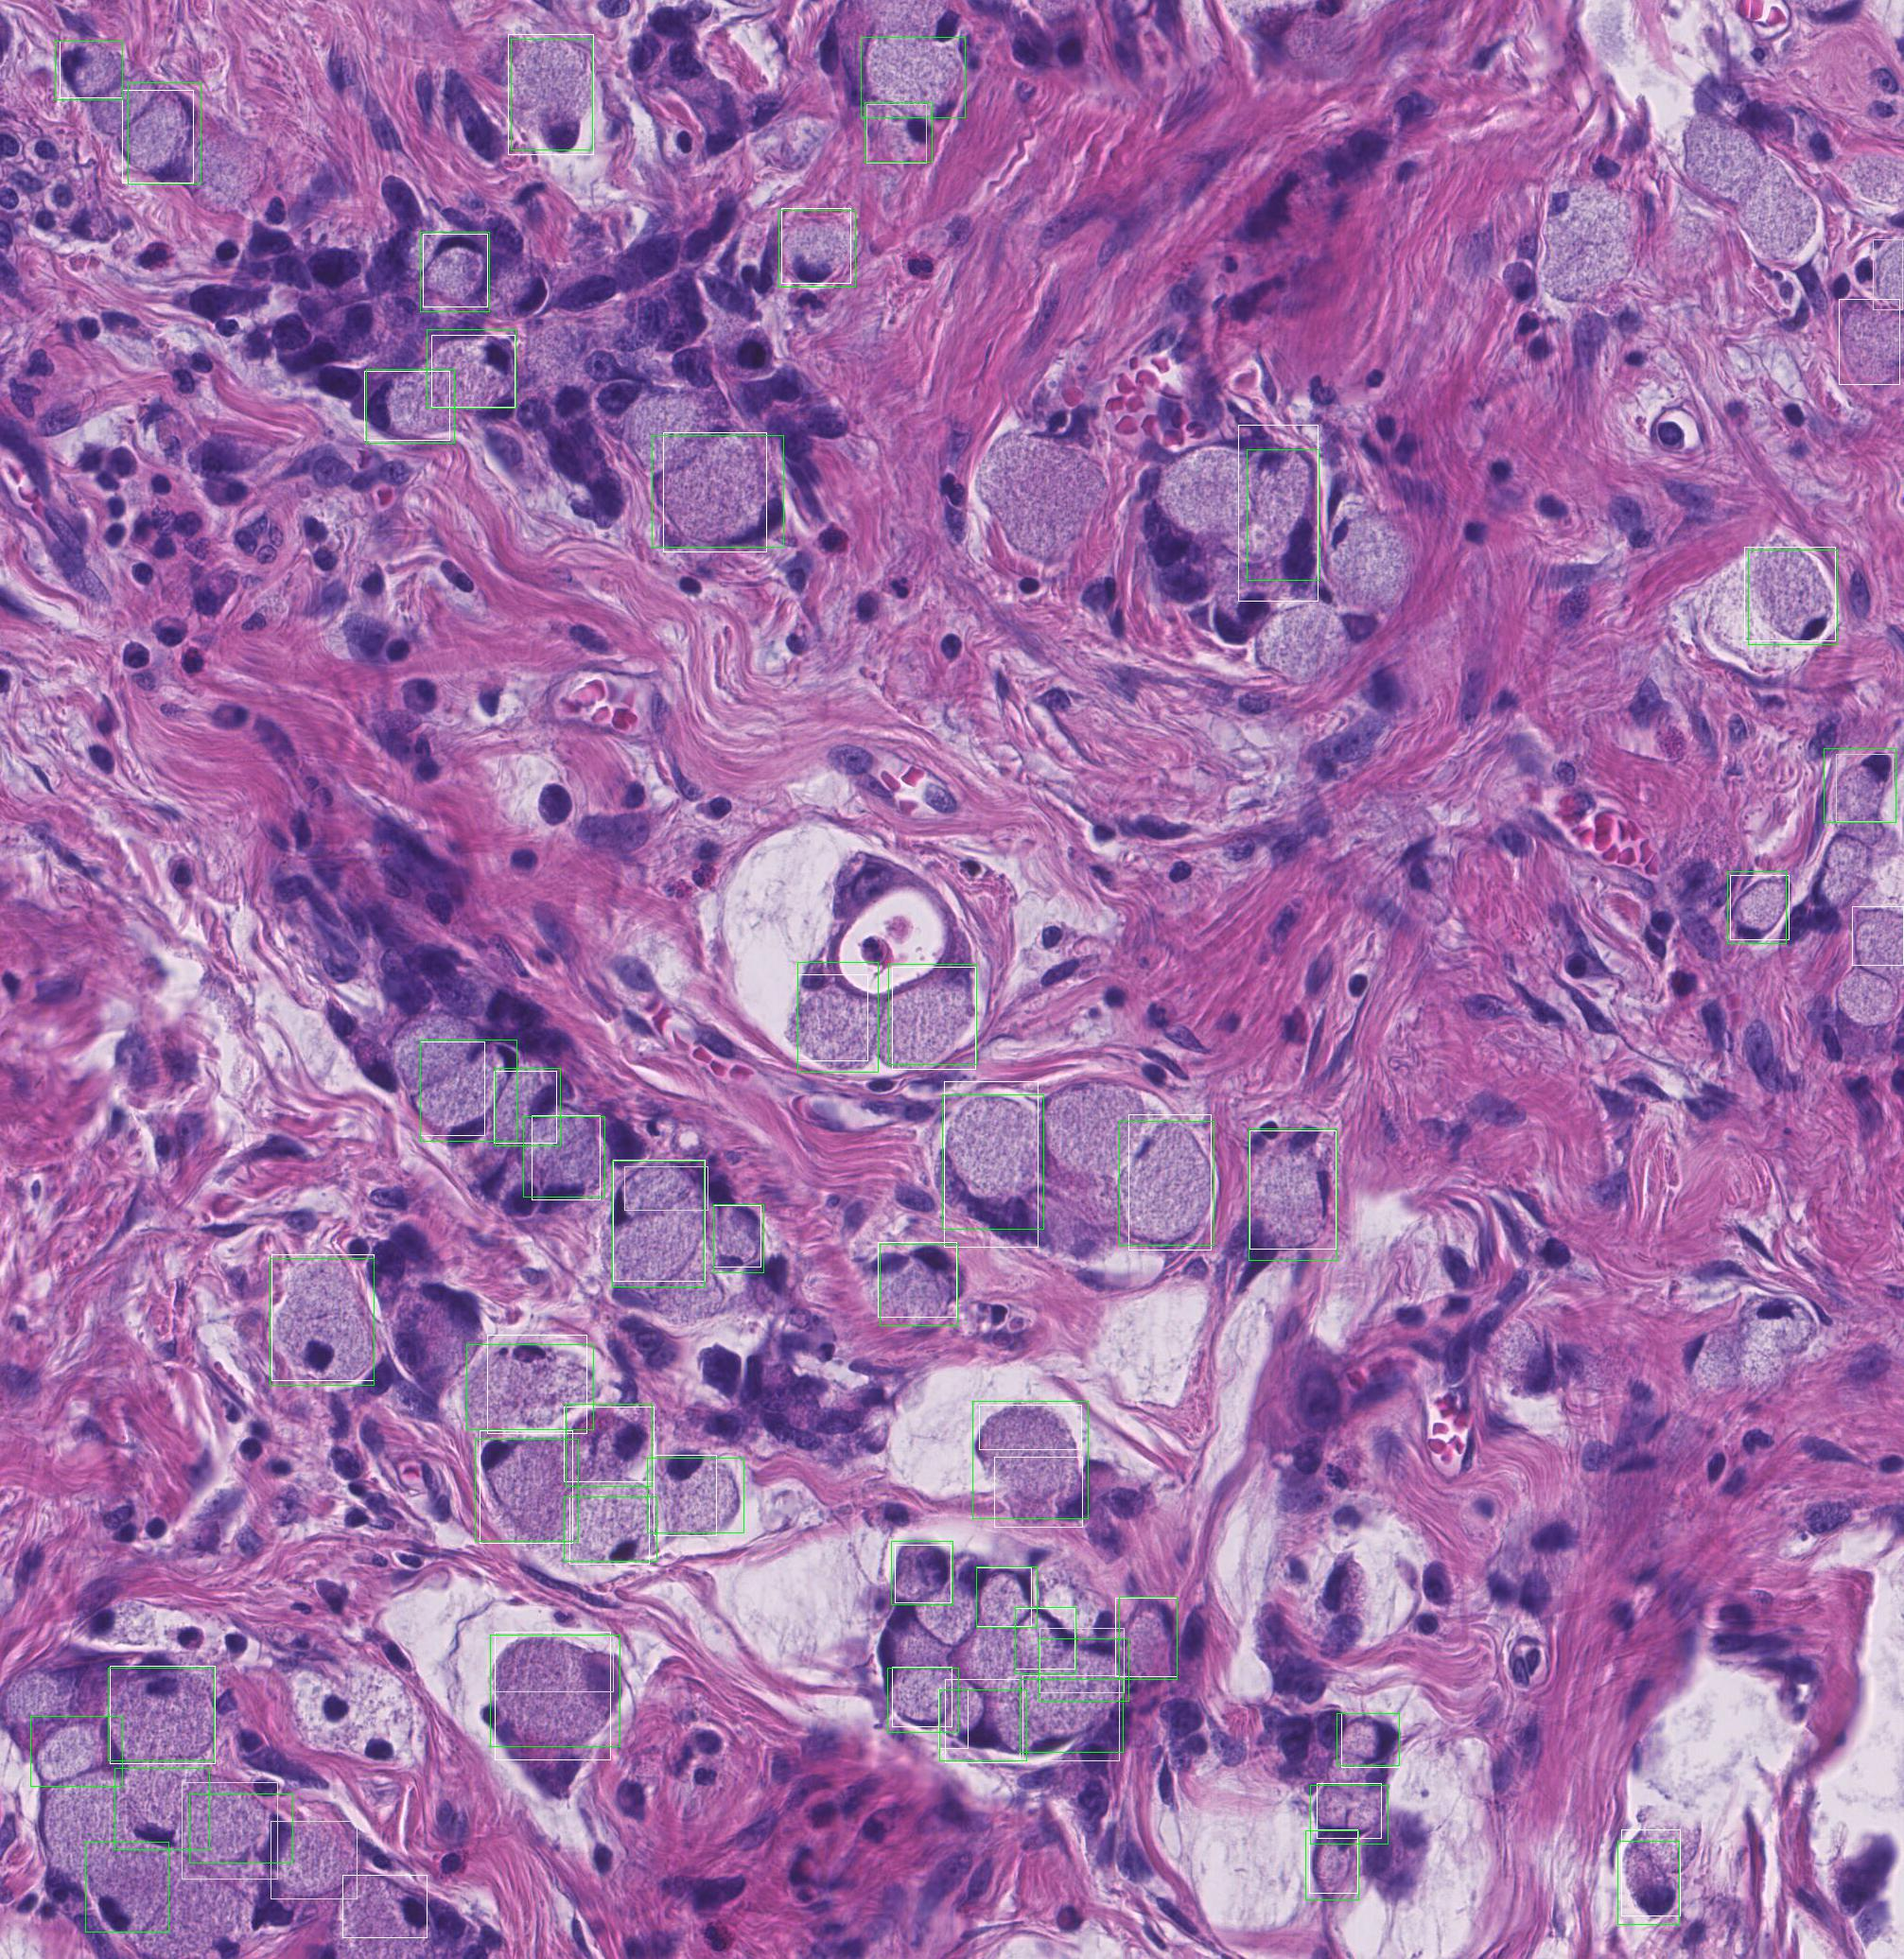ring_cell_cancer: (944, 1081, 1037, 1247), (495, 1632, 610, 1760), (979, 1394, 1084, 1530), (1238, 425, 1318, 600), (271, 1254, 374, 1380), (663, 432, 766, 551), (1128, 1114, 1210, 1249), (614, 1160, 705, 1280), (479, 1431, 572, 1543), (110, 1665, 215, 1763), (1250, 1130, 1336, 1249), (509, 33, 593, 154), (488, 1335, 586, 1433), (182, 1782, 278, 1879), (892, 967, 976, 1069), (1745, 547, 1836, 640), (1023, 1676, 1119, 1760), (484, 1635, 614, 1691), (563, 1406, 654, 1481), (271, 1821, 357, 1898), (122, 89, 192, 182), (944, 1679, 1019, 1763), (995, 1457, 1082, 1527), (420, 1041, 484, 1135), (432, 334, 514, 408), (797, 974, 867, 1060), (878, 1242, 956, 1317), (364, 371, 449, 439), (532, 1116, 600, 1200), (343, 1875, 427, 1938), (1040, 1628, 1124, 1691), (570, 1497, 649, 1564), (782, 208, 850, 283), (1621, 1830, 1680, 1915), (1839, 299, 1899, 385), (654, 1455, 717, 1536), (1115, 1597, 1177, 1676), (423, 234, 488, 306), (979, 1405, 1081, 1450), (493, 1070, 556, 1142), (1729, 875, 1789, 939), (1836, 754, 1894, 820), (1014, 1607, 1075, 1669), (624, 1167, 708, 1210), (59, 40, 122, 98), (1317, 1782, 1381, 1838), (892, 1667, 951, 1726), (867, 103, 927, 163), (976, 1567, 1032, 1627), (895, 1544, 951, 1602), (1341, 1712, 1399, 1767), (1852, 906, 1902, 966), (1310, 1830, 1357, 1893), (713, 1205, 761, 1266), (1873, 240, 1902, 310), (939, 1690, 967, 1747)
